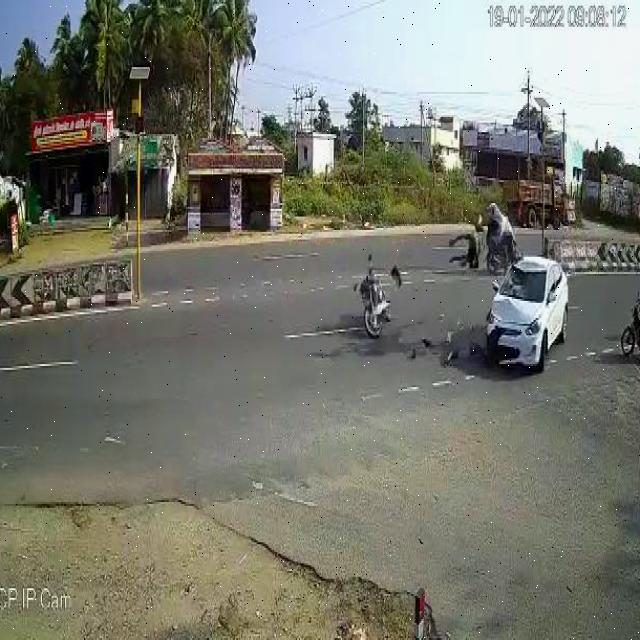accident: (438, 190, 573, 385), (348, 242, 405, 361)
